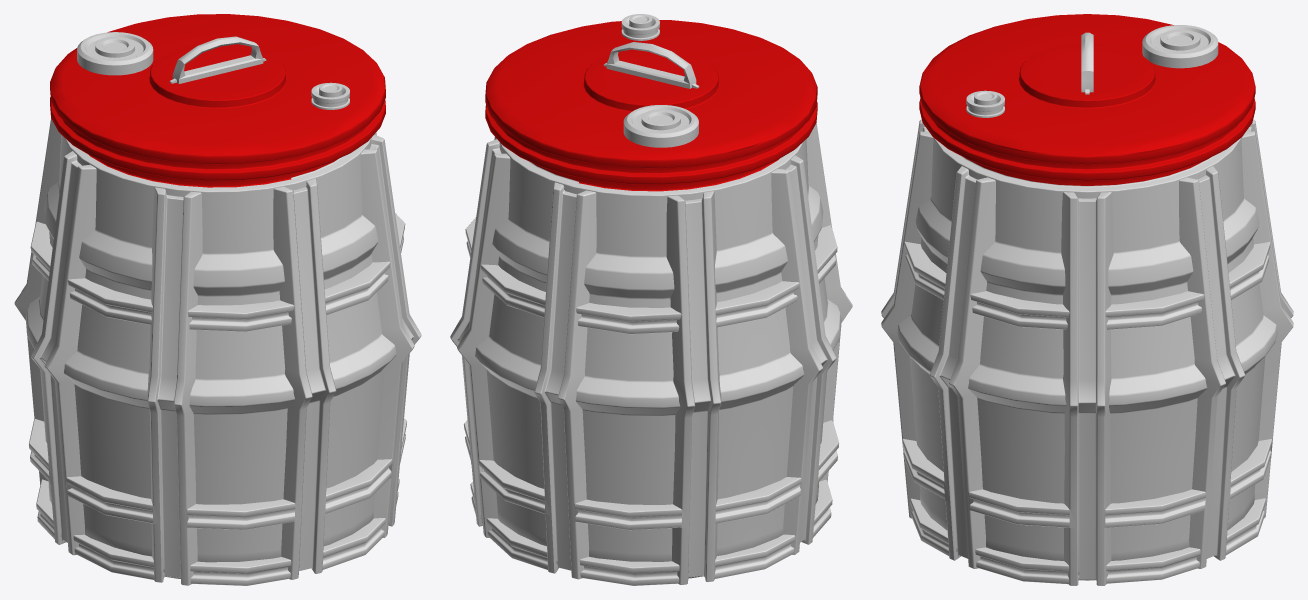
Rendered from Barrell_3_remake.fbx.
3 views of the same model, side by side, from view 1: azimuth 30°, elevation 25°; view 2: azimuth 150°, elevation 25°; view 3: azimuth 270°, elevation 25° (orthographic).
Parts seen in each view (by area): view 1: Base, Cube, Base.001, Cube.001; view 2: Base, Cube, Base.001, Cube.001; view 3: Base, Cube, Base.001, Cube.001.
Part boxes in pixels (x1,y1,x2,y2): Base: [25, 14, 396, 578]; Cube: [14, 118, 421, 585]; Base.001: [77, 32, 349, 109]; Cube.001: [169, 36, 266, 83]; Base: [475, 20, 841, 578]; Cube: [450, 123, 852, 585]; Base.001: [621, 14, 698, 147]; Cube.001: [603, 42, 699, 88]; Base: [897, 14, 1277, 580]; Cube: [881, 119, 1293, 585]; Base.001: [966, 25, 1218, 117]; Cube.001: [1081, 32, 1093, 94].
Size of the model in its own units: 69.25 by 69.25 by 89.21.
